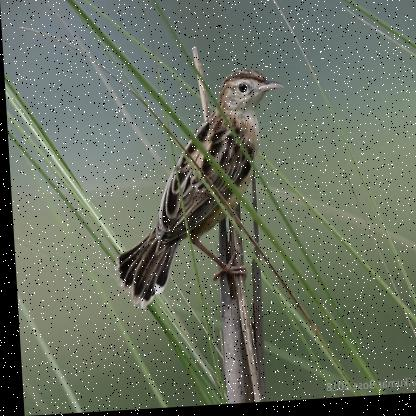Burung: (104, 70, 294, 312)
